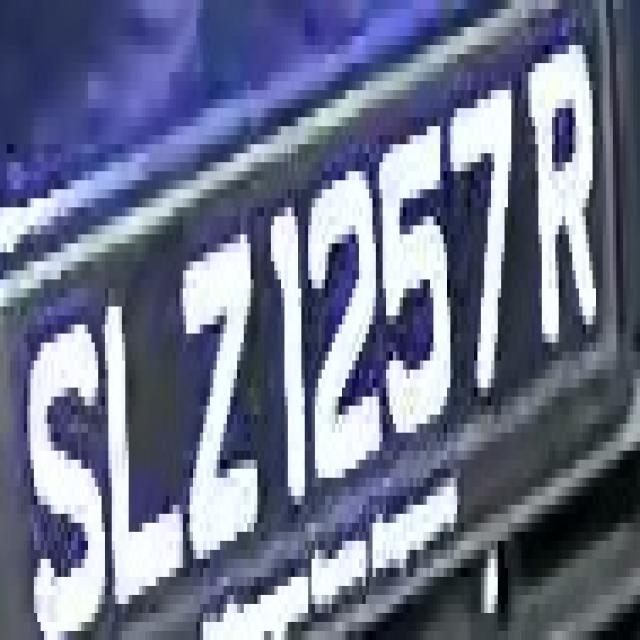1: (261, 189, 308, 550)
2: (294, 189, 390, 496)
5: (373, 99, 457, 460)
7: (437, 72, 528, 397)
L: (102, 288, 190, 595)
R: (518, 36, 613, 379)
S: (20, 297, 112, 631)
Z: (169, 252, 261, 568)
